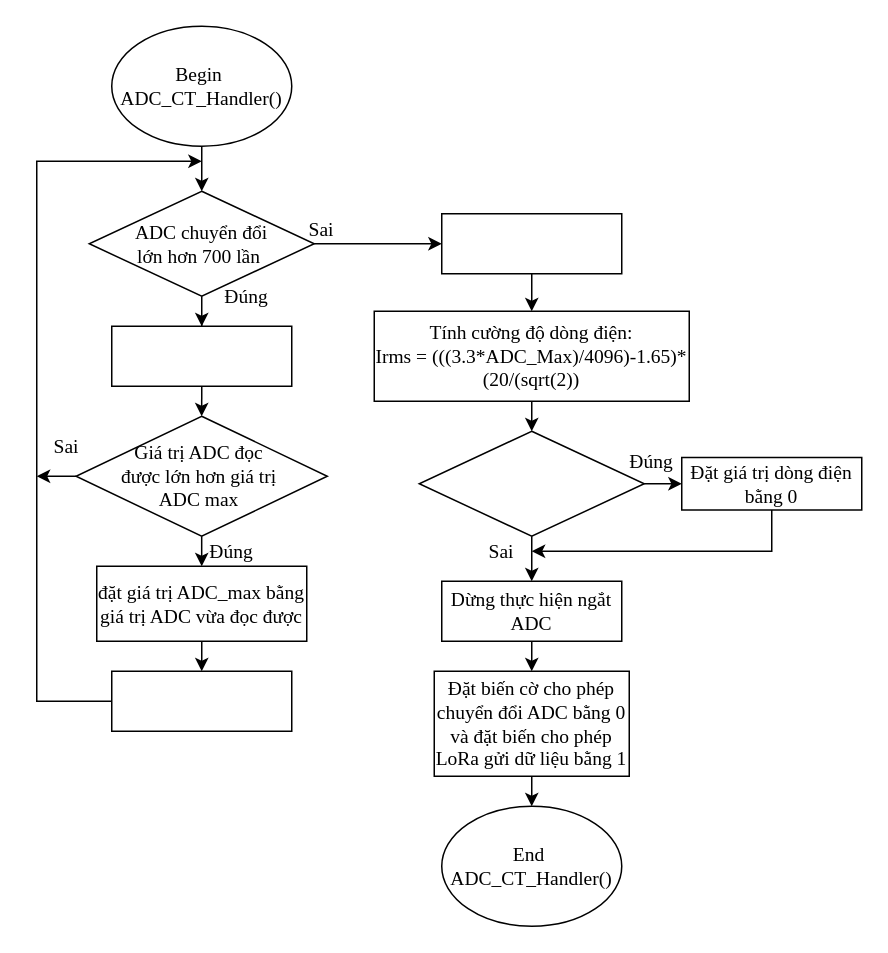
Image size: 888x953. Some labels were removed from this diagram. Here are the shapes that lost their labels. From the top down, the centre of each, then its label:
the point at 531,243: Đặt biến đếm số lần chuyển đổi ADC về 0
the point at 201,355: Đọc giá trị ADC ( ADC_value)
the point at 531,483: Giá trị dòng điện < 0
the point at 201,700: Count_ADC ++
